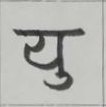u_matra: (44, 72, 74, 91)
